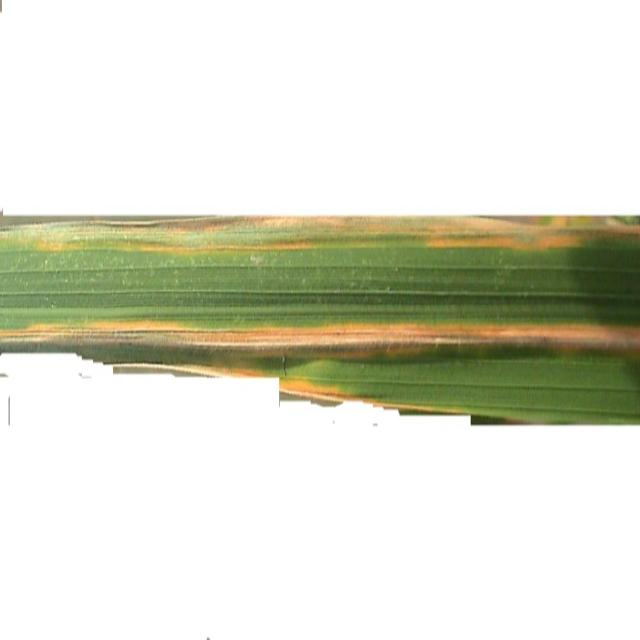Bacterial_Leaf_Blight: (12, 299, 637, 399), (12, 179, 629, 275)
